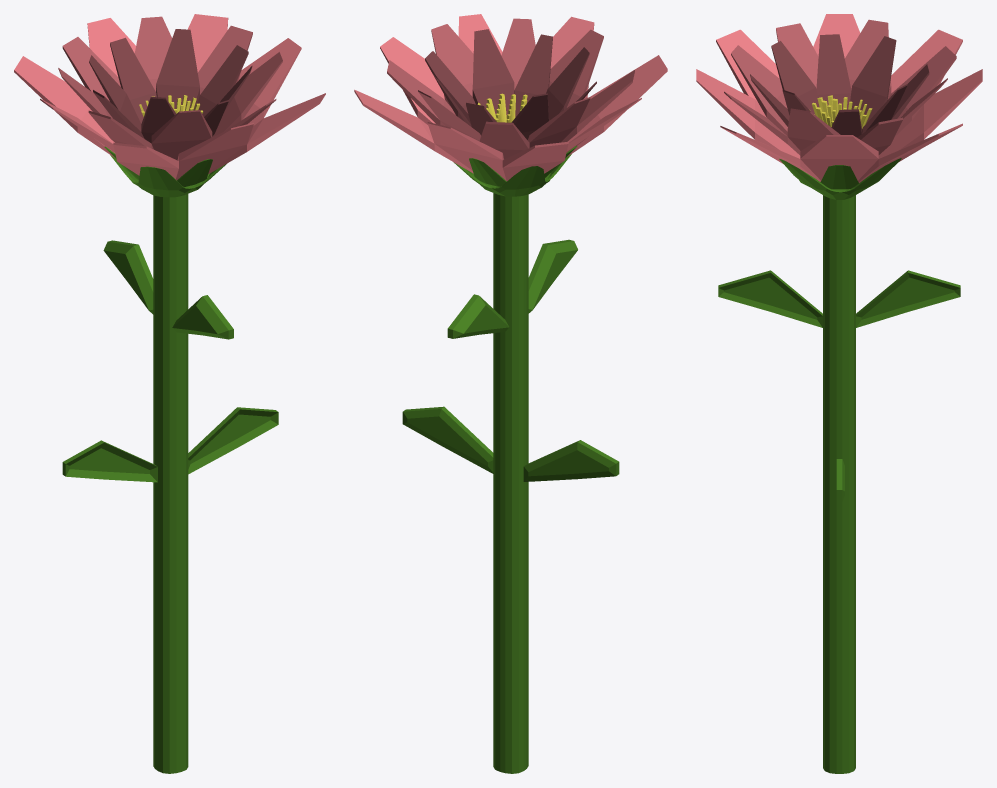
Rendered from Flower2.fbx.
3 renders of one model, left to right at view 1: azimuth 30°, elevation 25°; view 2: azimuth 150°, elevation 25°; view 3: azimuth 270°, elevation 25°, orthographic.
Visible parts, largest first — view 1: Cube.004; view 2: Cube.004; view 3: Cube.004.
Part boxes in pixels (left/top/right/bottom): Cube.004: left=14, top=14, right=325, bottom=773; Cube.004: left=354, top=14, right=667, bottom=773; Cube.004: left=696, top=14, right=982, bottom=773.
Size of the model in its own units: 120 by 325 by 120.
